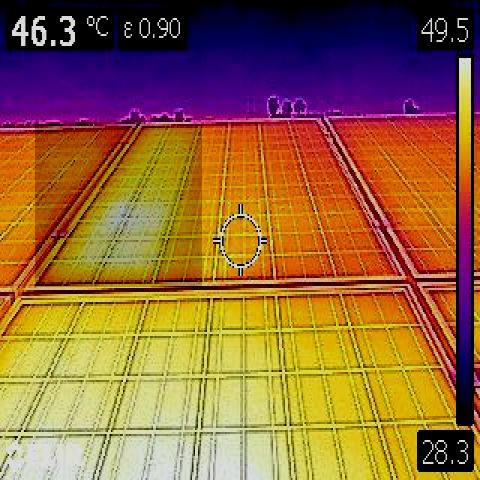fault: (35, 124, 202, 287)
